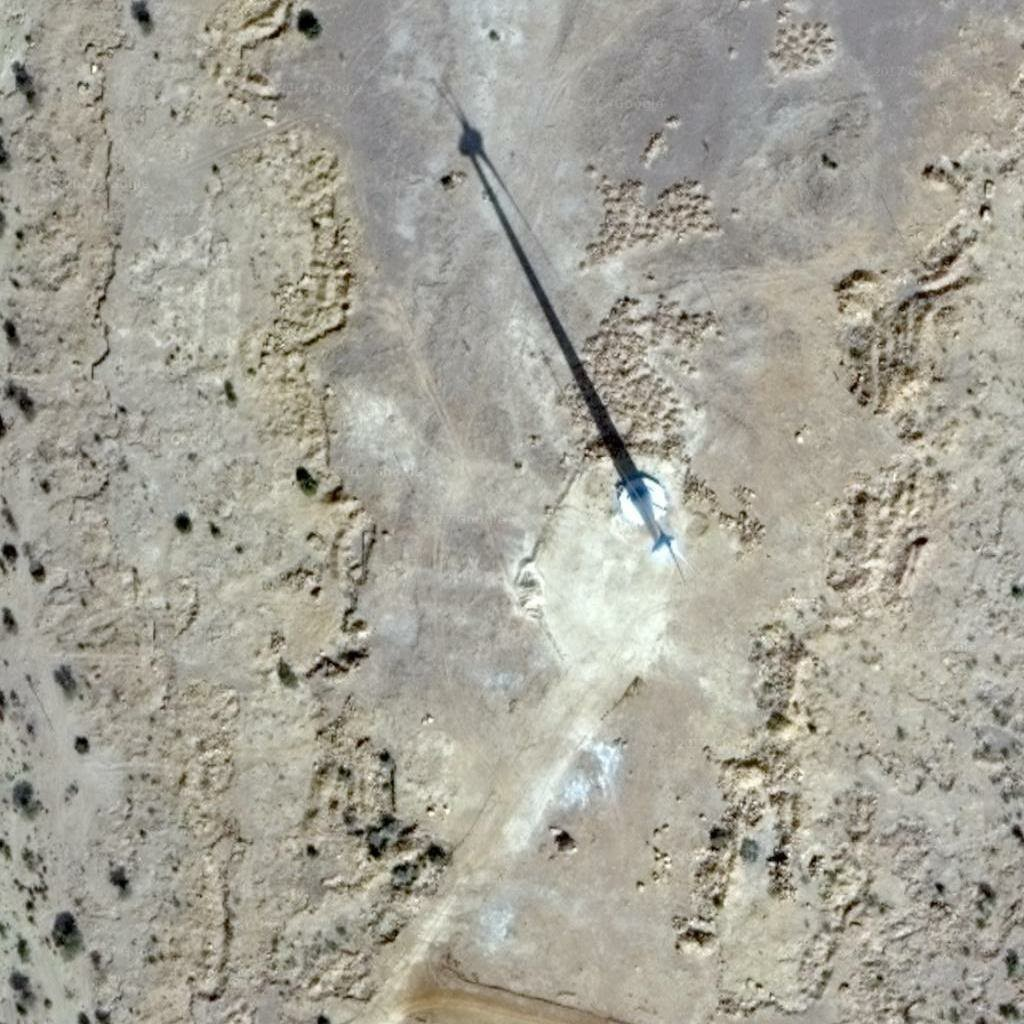Windmill: (422, 77, 646, 487)
